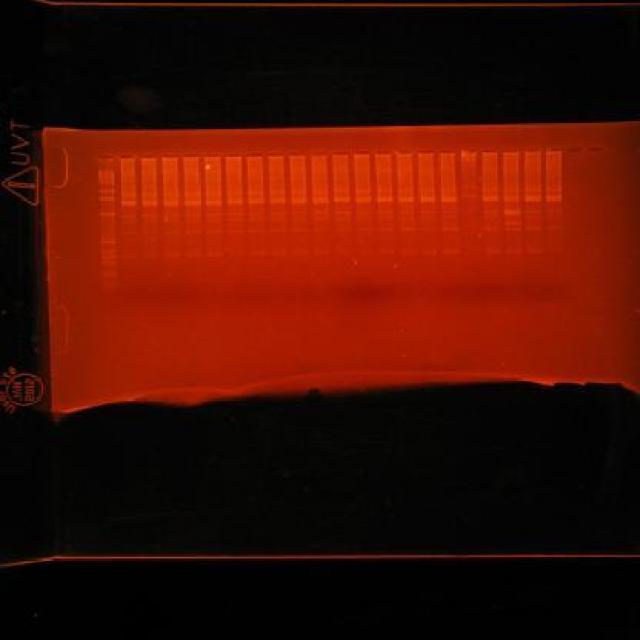B: (162, 198, 180, 208), (523, 194, 543, 203), (288, 197, 308, 206), (204, 198, 222, 207), (397, 194, 415, 203), (374, 195, 394, 203), (310, 196, 330, 204), (119, 199, 138, 207), (418, 196, 437, 204), (247, 197, 266, 205), (140, 199, 158, 207), (440, 196, 458, 204), (354, 196, 372, 204), (268, 196, 286, 204), (544, 195, 564, 202), (184, 199, 201, 207), (502, 195, 521, 202), (225, 198, 244, 205), (440, 248, 462, 254), (312, 250, 334, 256), (290, 250, 312, 256), (482, 195, 500, 202), (332, 196, 352, 202), (440, 226, 460, 232), (418, 226, 438, 232), (524, 248, 544, 254), (140, 230, 160, 236), (204, 252, 224, 258), (268, 250, 288, 256), (398, 226, 417, 232), (333, 226, 352, 232), (268, 210, 287, 216), (120, 230, 138, 236), (355, 226, 373, 232), (377, 226, 395, 232), (312, 226, 330, 232), (290, 210, 308, 216), (420, 250, 438, 256), (378, 248, 396, 254), (184, 252, 202, 258), (504, 220, 521, 226), (504, 210, 521, 216), (484, 226, 501, 232), (504, 249, 524, 254), (398, 249, 418, 254), (526, 226, 542, 232), (248, 228, 264, 234), (333, 210, 352, 215), (312, 209, 331, 214), (162, 253, 181, 258), (418, 210, 436, 215), (398, 209, 416, 214), (355, 210, 373, 215), (376, 210, 394, 215), (484, 249, 502, 254), (142, 253, 160, 258), (163, 230, 180, 235), (184, 230, 201, 235), (205, 229, 222, 234), (504, 226, 521, 231), (184, 213, 201, 218), (163, 213, 180, 218), (227, 229, 244, 234), (206, 213, 222, 218), (118, 254, 138, 258), (460, 208, 480, 212), (268, 228, 287, 232), (247, 212, 266, 216), (248, 252, 267, 256), (226, 212, 243, 216), (228, 252, 245, 256), (292, 228, 308, 232), (440, 210, 458, 213), (119, 215, 136, 218), (461, 195, 477, 198), (546, 227, 562, 230), (483, 210, 499, 213), (142, 215, 158, 218), (524, 210, 542, 212), (546, 210, 562, 212)
L: (92, 144, 608, 162)
M: (94, 165, 120, 293)
P: (99, 280, 118, 289), (99, 270, 118, 278), (96, 172, 116, 178), (98, 254, 117, 260), (98, 260, 117, 266), (98, 196, 115, 202), (98, 180, 115, 186), (98, 249, 117, 254), (98, 239, 115, 244), (98, 212, 115, 217), (98, 189, 115, 194)
Pc: (95, 154, 116, 162), (117, 154, 137, 162), (544, 147, 564, 155), (480, 148, 500, 156), (352, 149, 372, 157), (308, 150, 328, 158), (266, 152, 286, 160), (523, 147, 542, 155), (288, 152, 307, 160), (460, 148, 478, 156), (586, 147, 606, 153), (564, 147, 584, 153), (502, 148, 522, 154), (394, 150, 414, 156), (330, 152, 350, 158), (202, 154, 222, 160), (138, 154, 157, 160), (245, 153, 264, 159), (160, 154, 178, 160), (438, 150, 456, 156), (417, 150, 435, 156), (375, 150, 393, 156), (182, 154, 200, 160), (224, 154, 242, 160)
